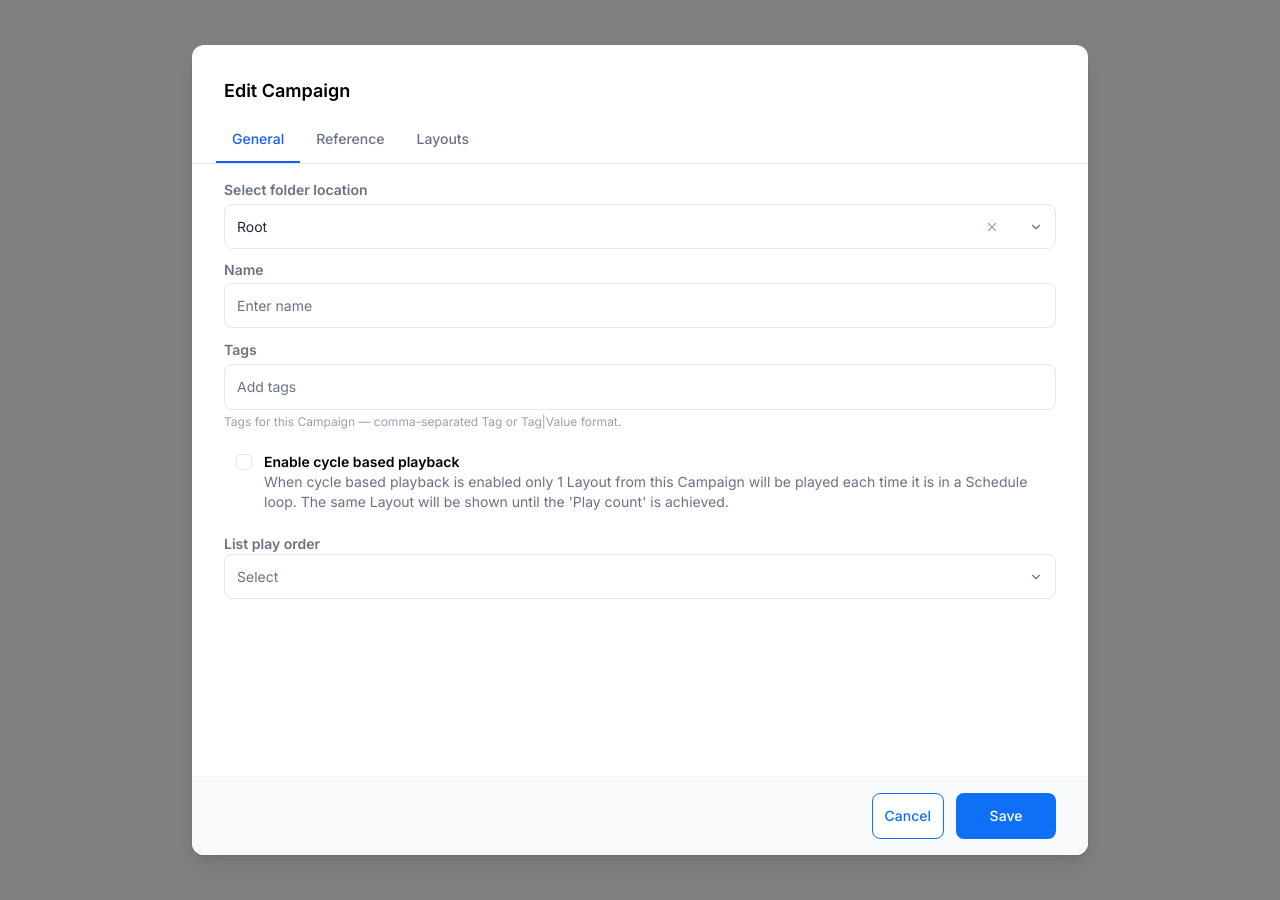
Test: EditCampaignModal › toggling Cycle Playback switches between play count input and list play order dropdown
The image size is (1280, 900).
Expected: the field labelled "Name" is shown, x1=225 y1=284 x2=1055 y2=327
Expected: the field labelled "Play count" is not shown
Click the checkbox labelled "cycle based playback": (244, 462) x1=236 y1=454 x2=252 y2=470
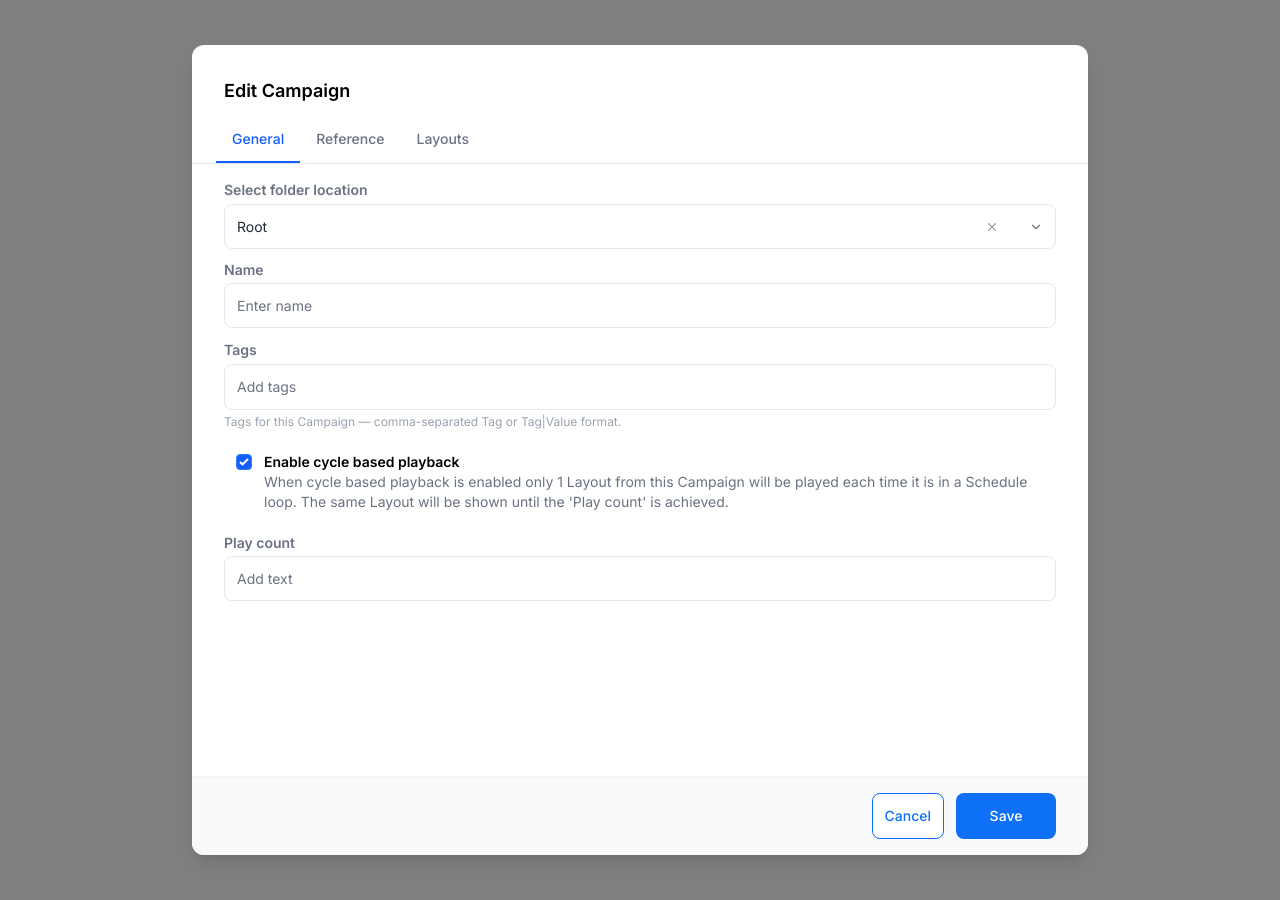
Result: the number field labelled "Play count" is shown at x1=225 y1=557 x2=1055 y2=600
